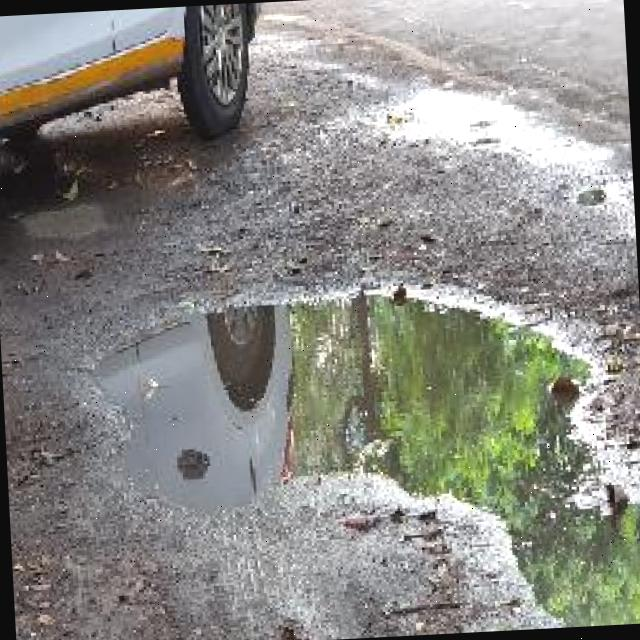stagnation: (80, 284, 640, 628)
